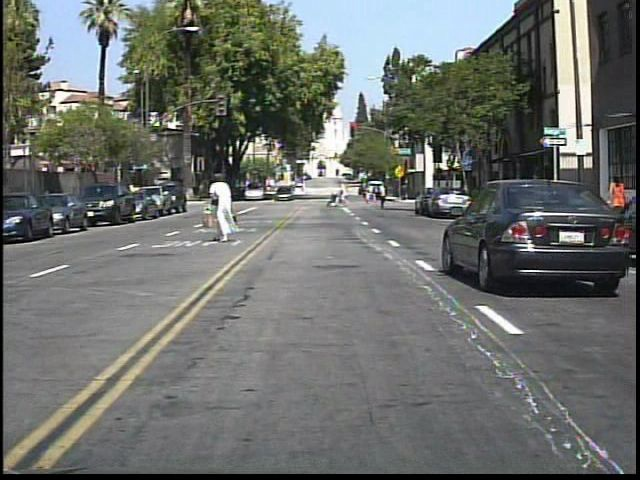person: (203, 169, 244, 248), (607, 167, 631, 231), (500, 169, 520, 219), (375, 180, 392, 211), (338, 180, 351, 210)
